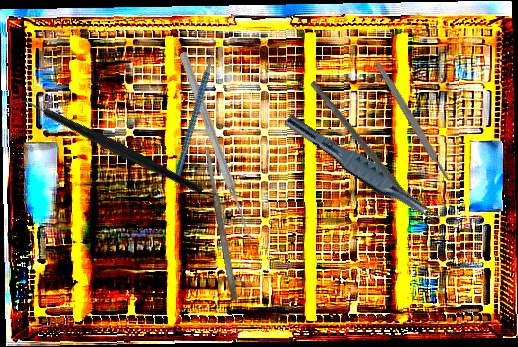Chopper: (5, 44, 205, 250), (130, 32, 258, 180)
Pusher: (176, 50, 256, 242)
Scalpel Handle: (373, 60, 452, 182)
Spatula Surgical: (304, 80, 421, 216), (203, 145, 239, 302)
Tissue Forceps: (278, 112, 448, 229)
